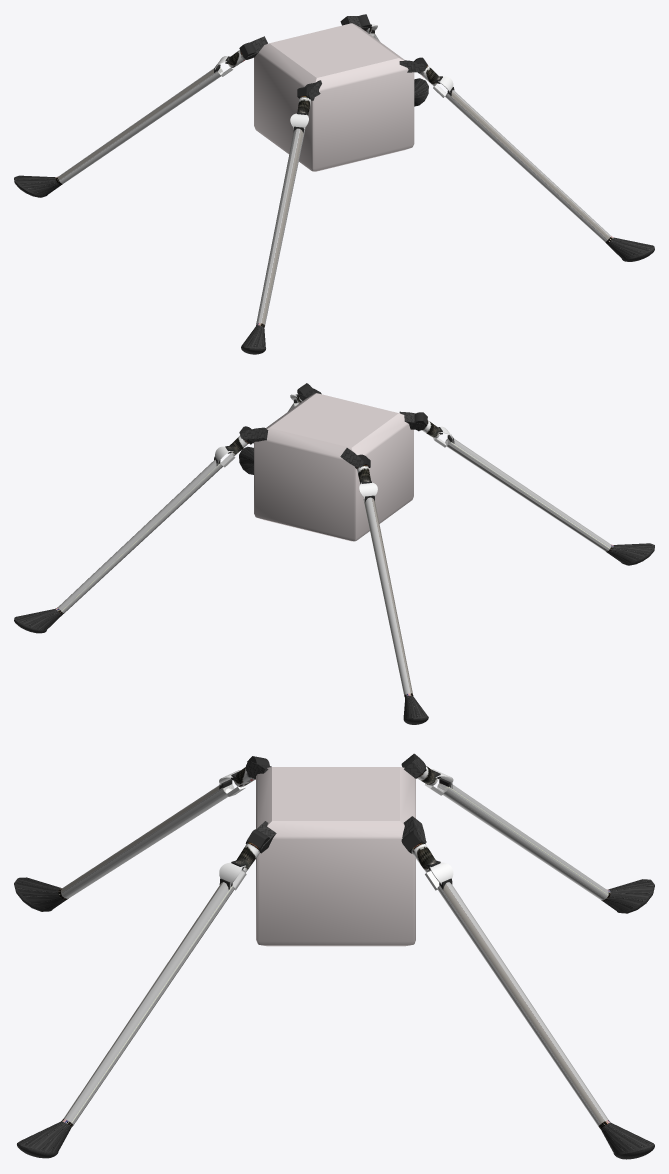
File: only_base_correct_origin.dae
3 views of the same model, one above another, from view 1: azimuth 30°, elevation 25°; view 2: azimuth 150°, elevation 25°; view 3: azimuth 270°, elevation 25° (orthographic). The views are drawn at different scales.
Parts seen in each view (by area): view 1: body; view 2: body; view 3: body.
Part boxes in pixels (<box>): body: <box>14,14,654,354</box>; body: <box>14,383,654,724</box>; body: <box>14,753,654,1159</box>.
Size of the model in its own units: 4.96 by 4.97 by 2.1.
Materials: 5 (3 with a texture image).
